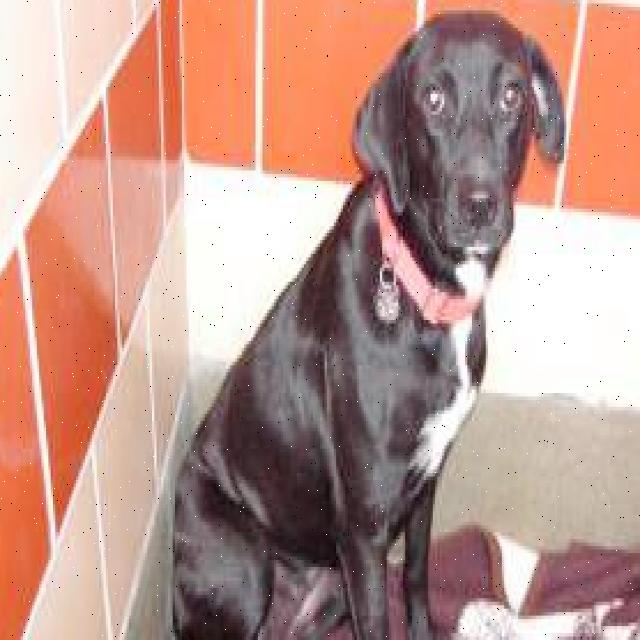Dog: (352, 0, 573, 282)
